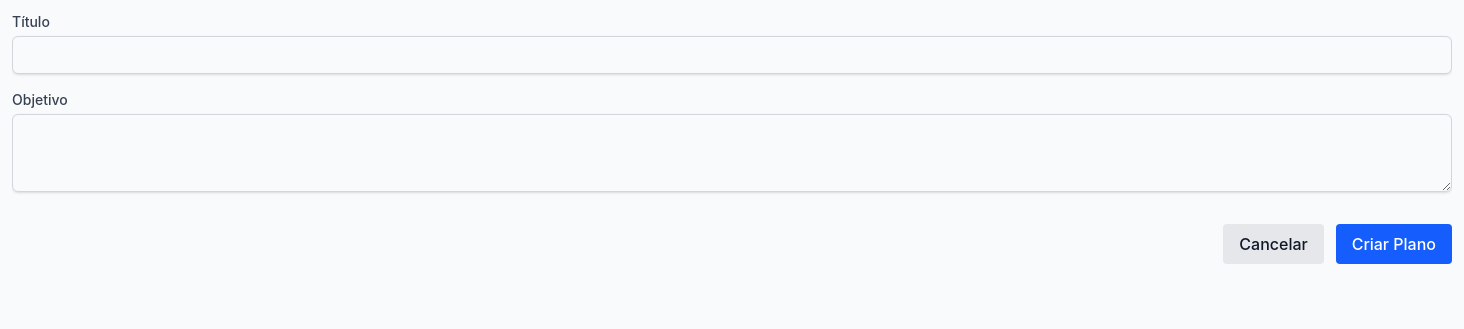
Test: CreatePlanForm › should show validation errors when submitting empty form
This screenshot has width=1464, height=329.
Click the button "Criar Plano" at (1394, 244), box [1336,224,1452,264]
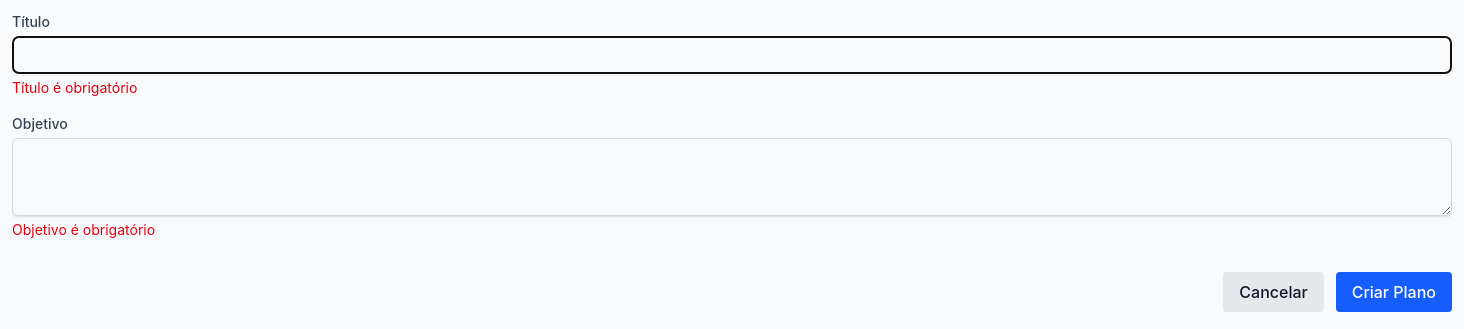
Expected: the text "Título é obrigatório" is shown, [12,79,137,96]
Expected: the text "Objetivo é obrigatório" is shown, [12,221,155,238]
